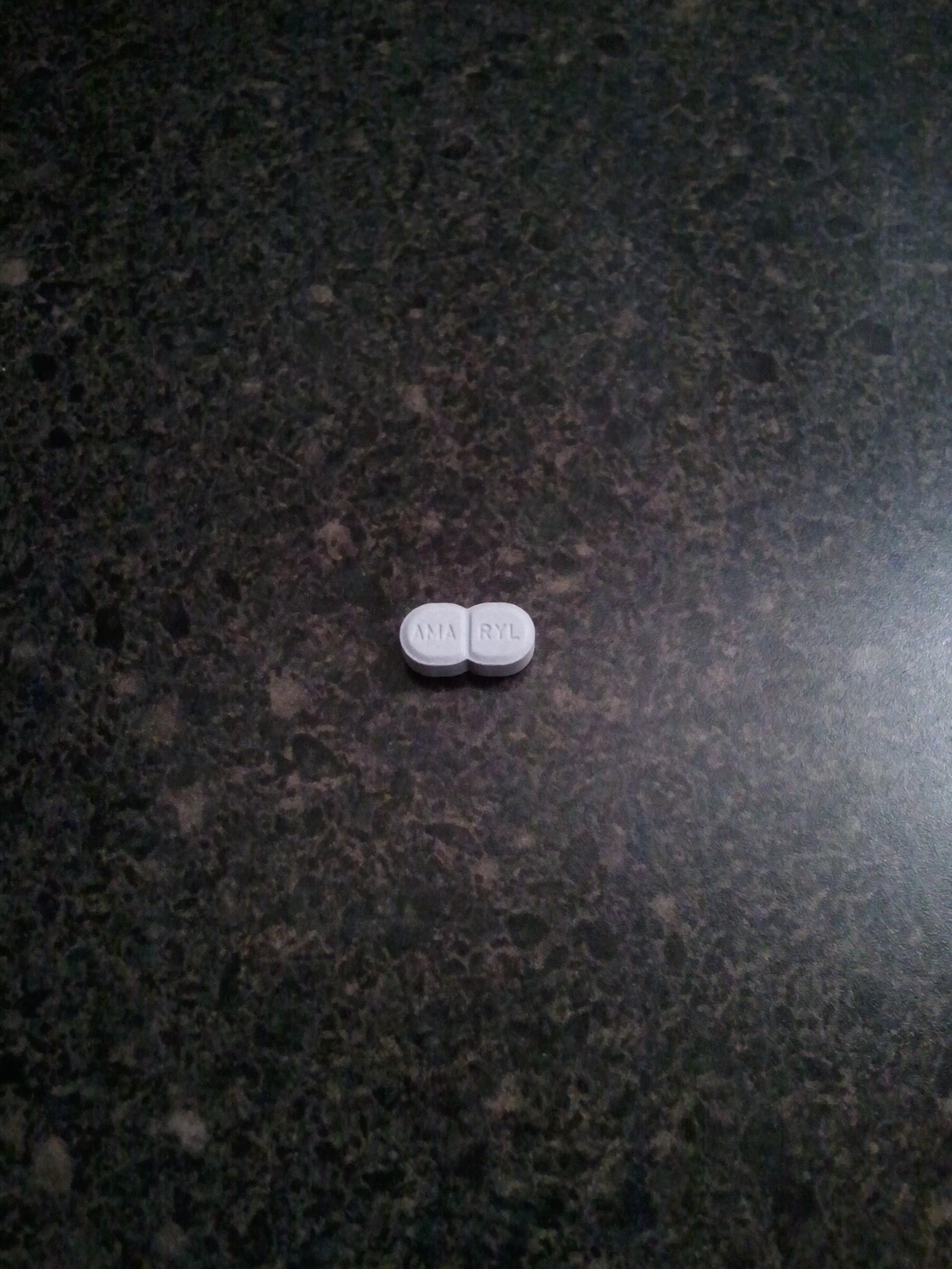Pill: (382, 590, 553, 685)
